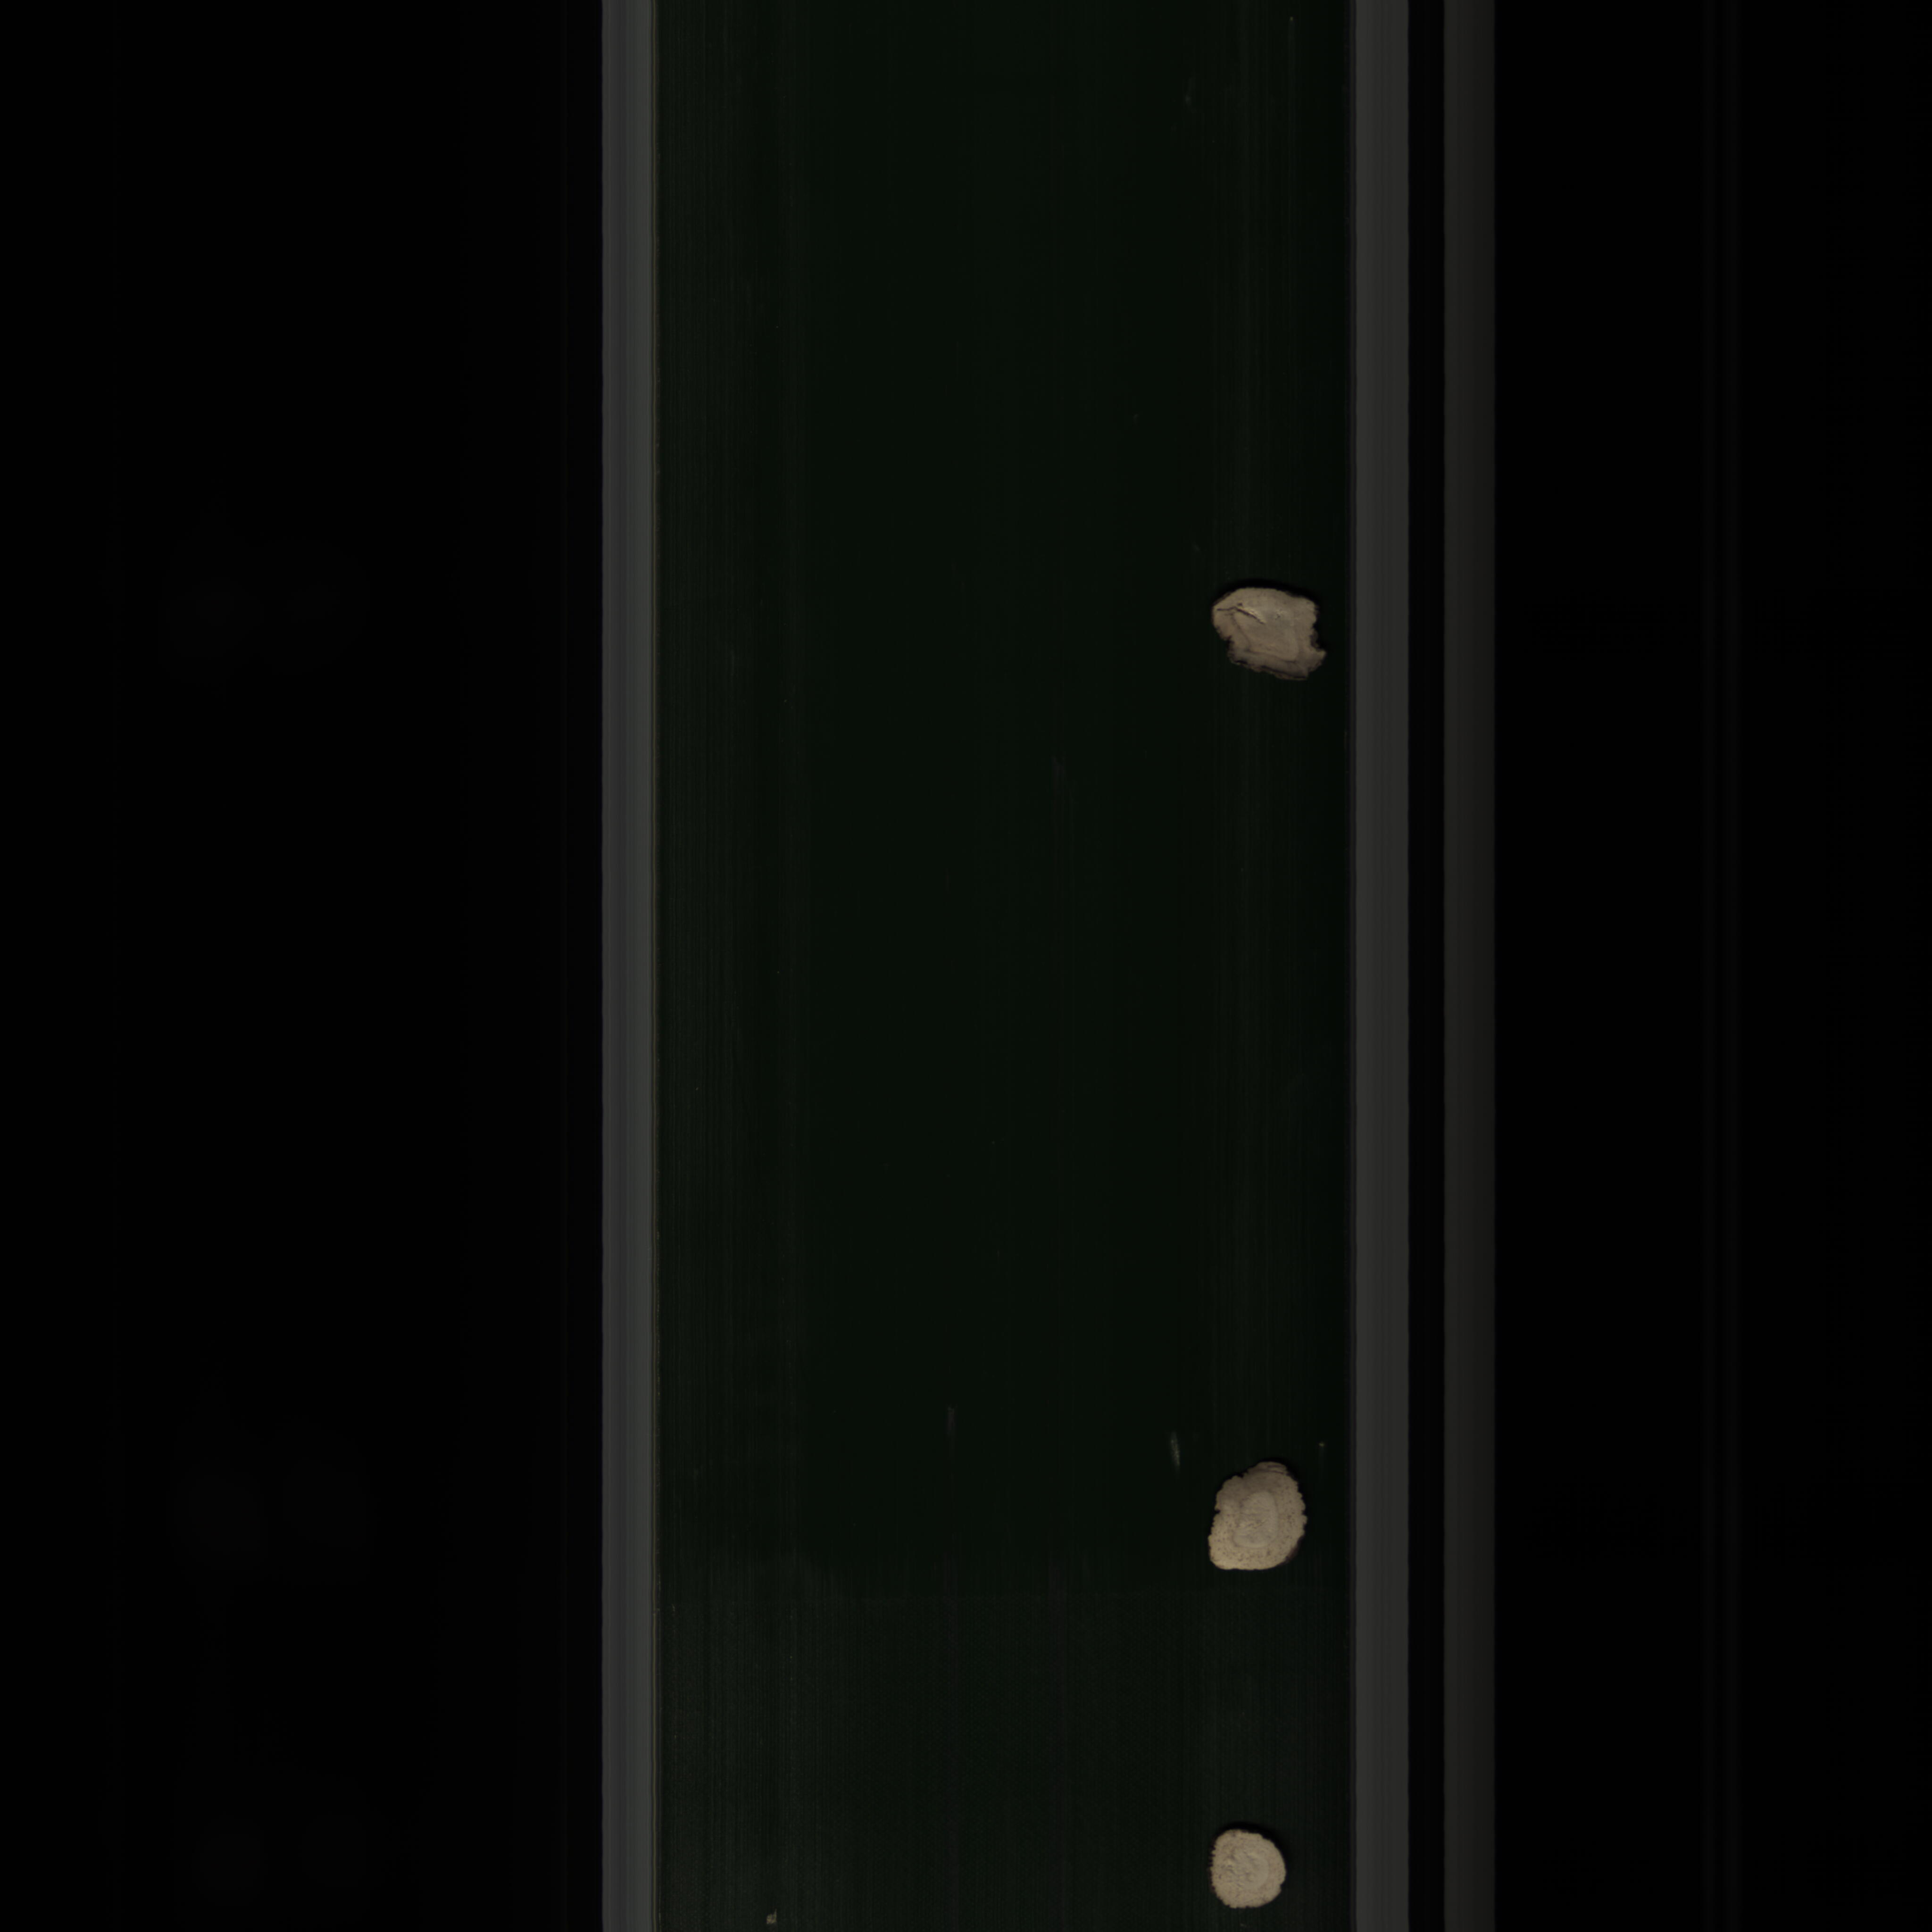debris: (1198, 1454, 1323, 1585)
moldy: (1207, 584, 1338, 688)
